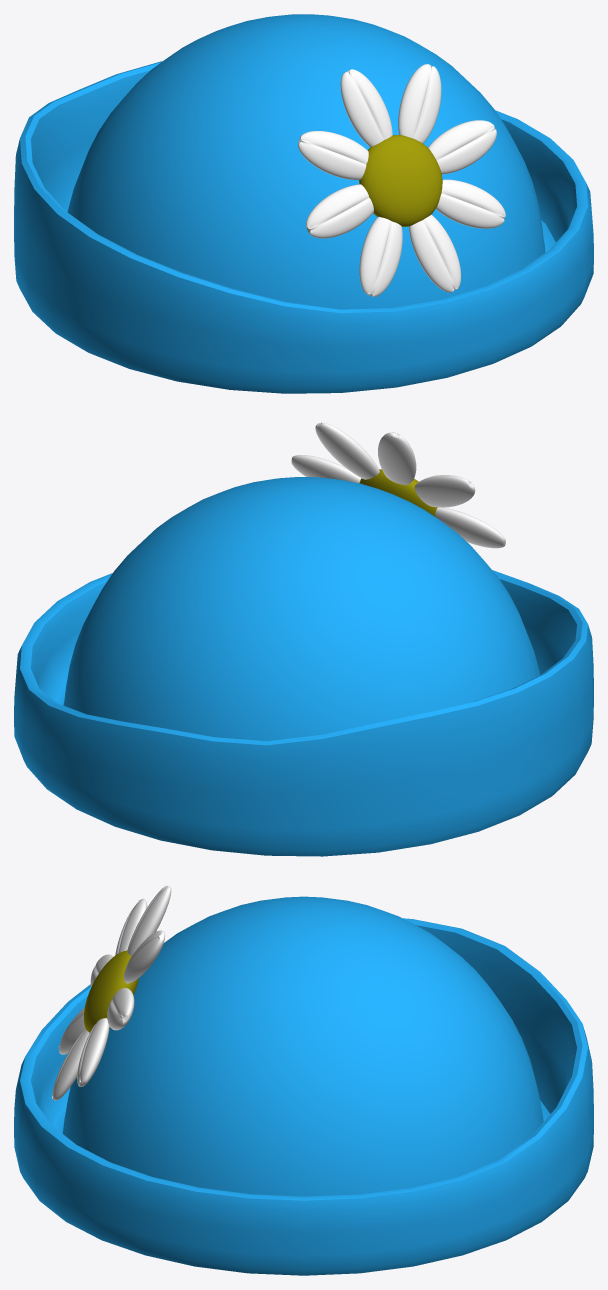
Rendered from Mrs. Marocas' Hat.fbx.
The picture shows the model from 3 angles, top to bottom: view 1: azimuth 30°, elevation 25°; view 2: azimuth 150°, elevation 25°; view 3: azimuth 270°, elevation 25°; orthographic projection.
Visible parts, largest first — view 1: Mrs. Maroca's Hat; view 2: Mrs. Maroca's Hat; view 3: Mrs. Maroca's Hat.
Boxes of the visible parts, box(x1,y1,x2,y2) form: Mrs. Maroca's Hat: box(14, 14, 593, 393); Mrs. Maroca's Hat: box(14, 422, 593, 856); Mrs. Maroca's Hat: box(14, 885, 593, 1275).
Bounding box in the file's own units: 88.44 × 88.44 × 43.72.
